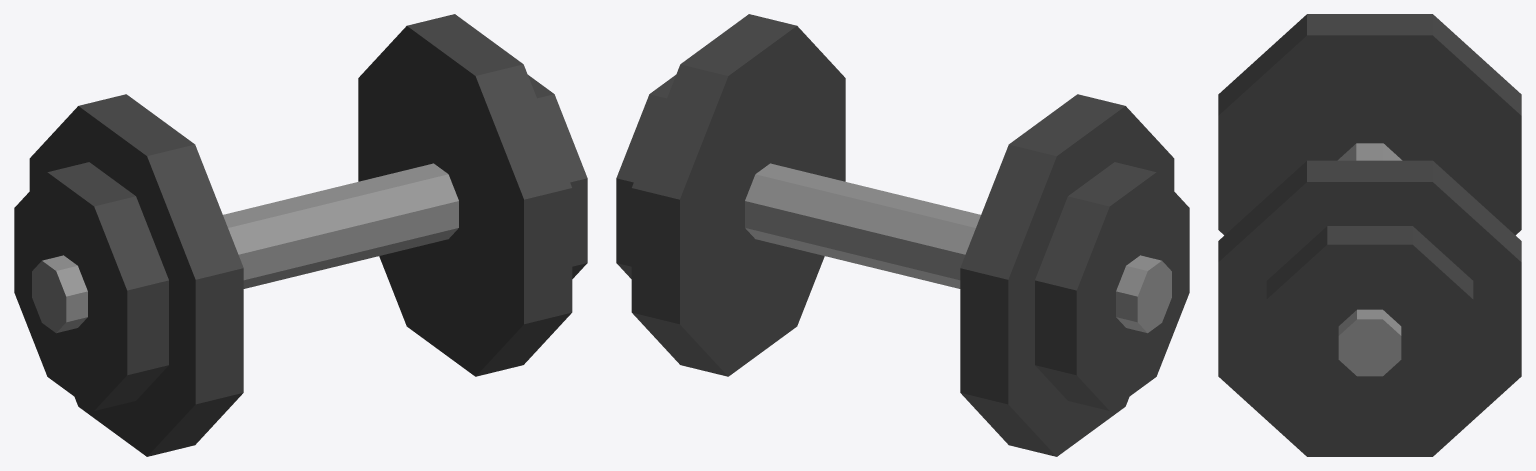
The model's file is Dumbbell_01.fbx.
3 views of the same model, side by side, from view 1: azimuth 30°, elevation 25°; view 2: azimuth 150°, elevation 25°; view 3: azimuth 270°, elevation 25° (orthographic). The views are drawn at different scales.
Parts seen in each view (by area): view 1: Dumbbell_01; view 2: Dumbbell_01; view 3: Dumbbell_01.
Boxes of the visible parts, x1,y1,x2,y2 form: Dumbbell_01: (14, 14, 587, 456); Dumbbell_01: (616, 14, 1189, 456); Dumbbell_01: (1218, 14, 1521, 456).
Size of the model in its own units: 28.18 by 16.08 by 16.08.
